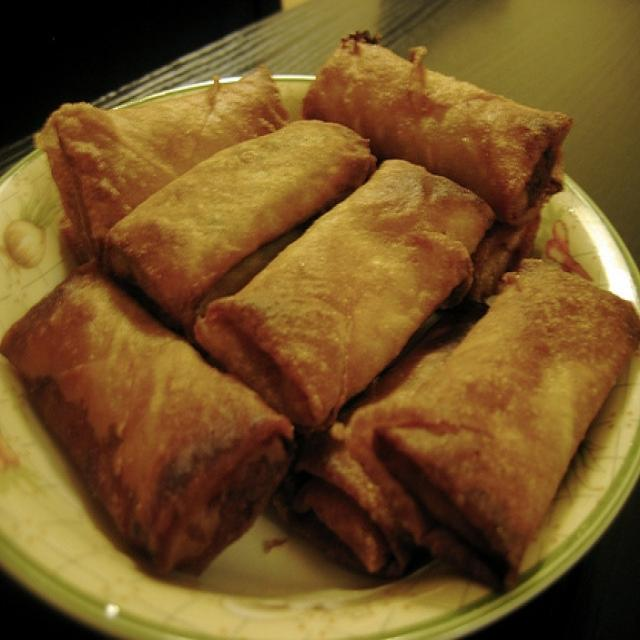炸货点心: (15, 41, 619, 604)
